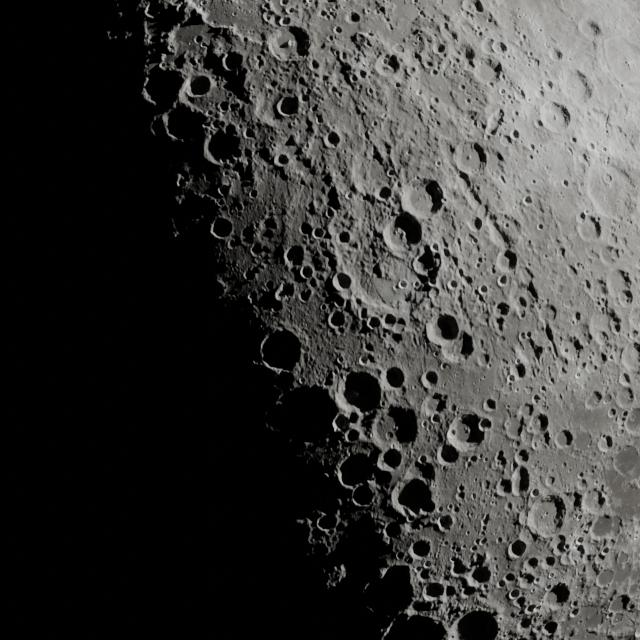crater: (337, 368, 383, 424), (256, 329, 306, 377), (335, 447, 377, 496), (395, 478, 437, 520), (529, 494, 568, 536), (405, 178, 446, 216), (145, 68, 182, 110), (444, 412, 487, 448), (204, 126, 242, 166), (386, 214, 425, 251), (268, 28, 308, 64), (455, 609, 501, 640), (425, 313, 463, 345), (455, 142, 486, 175), (271, 92, 304, 122), (185, 72, 215, 100), (281, 242, 307, 271), (507, 467, 530, 499), (209, 215, 237, 240), (347, 484, 376, 508), (332, 270, 356, 298), (497, 248, 518, 278), (384, 363, 409, 388), (378, 448, 404, 471), (436, 446, 461, 469), (549, 581, 571, 605), (412, 536, 430, 562), (595, 431, 616, 453), (322, 128, 345, 148), (422, 582, 446, 601), (471, 564, 493, 584), (335, 226, 355, 247), (327, 310, 346, 330), (535, 412, 549, 438), (272, 150, 292, 168), (496, 480, 514, 500), (555, 428, 573, 448), (509, 539, 531, 555), (424, 368, 440, 388), (380, 185, 391, 201)
rock: (462, 150, 472, 165), (463, 426, 472, 436), (449, 429, 458, 438), (287, 39, 298, 46)
